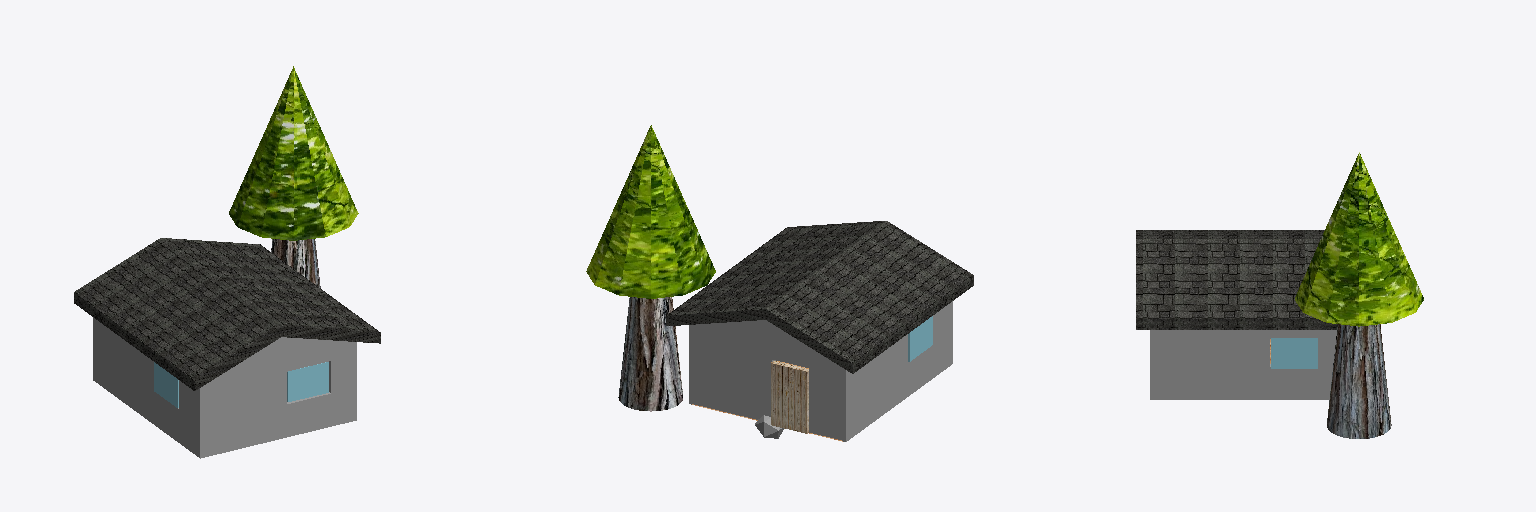
3 renders of one model, left to right at view 1: azimuth 30°, elevation 25°; view 2: azimuth 150°, elevation 25°; view 3: azimuth 270°, elevation 25°, orthographic.
Visible parts, largest first — view 1: Roof, Walls, Cone, Cylinder, Window1, Window; view 2: Roof, Walls, Cone, Cylinder, Door, Window; view 3: Roof, Cone, Walls, Cylinder, Window2.
Part boxes in pixels (x1,y1,x2,y2): Roof: (74,238,380,390); Walls: (93,317,356,458); Cone: (229,66,358,240); Cylinder: (271,239,320,287); Window1: (287,362,328,401); Window: (154,362,178,407); Roof: (666,221,973,373); Walls: (689,301,952,441); Cone: (586,125,715,298); Cylinder: (618,297,682,411); Door: (771,361,808,433); Window: (908,316,932,361); Roof: (1136,230,1337,329); Cone: (1295,152,1423,326); Walls: (1150,330,1336,399); Cylinder: (1327,324,1391,438); Window2: (1271,338,1317,368).
Size of the model in its own units: 9.49 by 9.63 by 8.88.
8 materials, 6 textured.